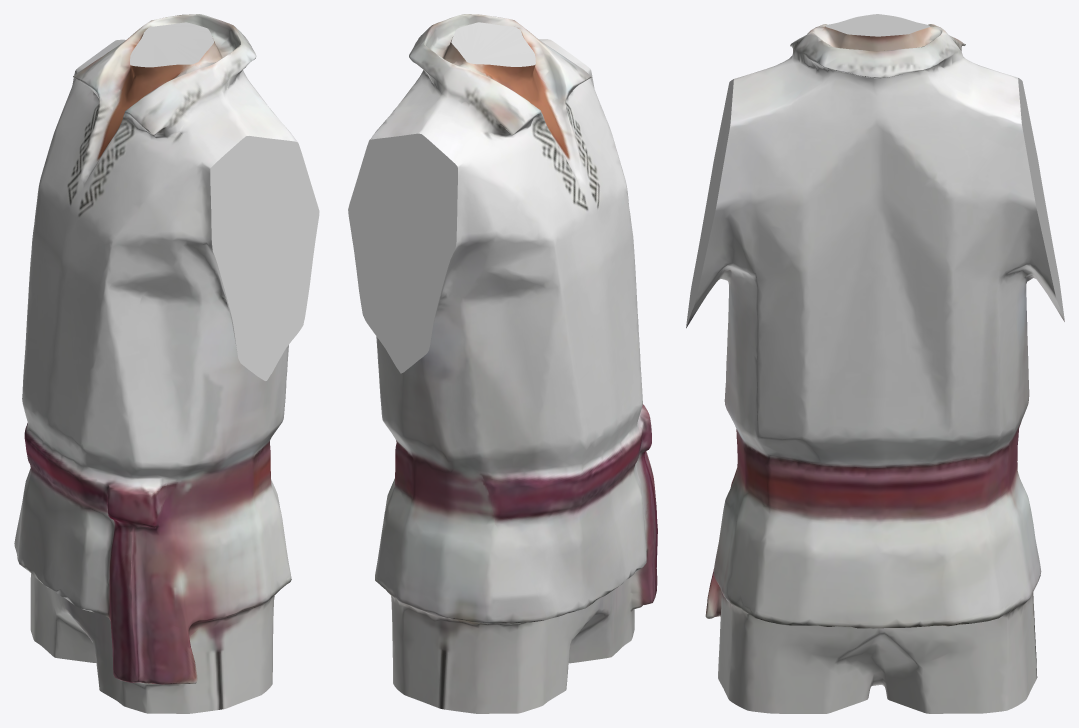
The model's file is torso.obj.
3 renders of one model, left to right at view 1: azimuth 30°, elevation 25°; view 2: azimuth 150°, elevation 25°; view 3: azimuth 270°, elevation 25°, orthographic. The views are drawn at different scales.
Visible parts, largest first — view 1: Torso_and_Clothing; view 2: Torso_and_Clothing; view 3: Torso_and_Clothing.
Part boxes in pixels (x1,y1,x2,y2): Torso_and_Clothing: [14, 14, 319, 713]; Torso_and_Clothing: [348, 14, 657, 713]; Torso_and_Clothing: [686, 14, 1064, 713].
Size of the model in its own units: 0.0321 by 0.0885 by 0.0453.
1 material, 1 textured.
